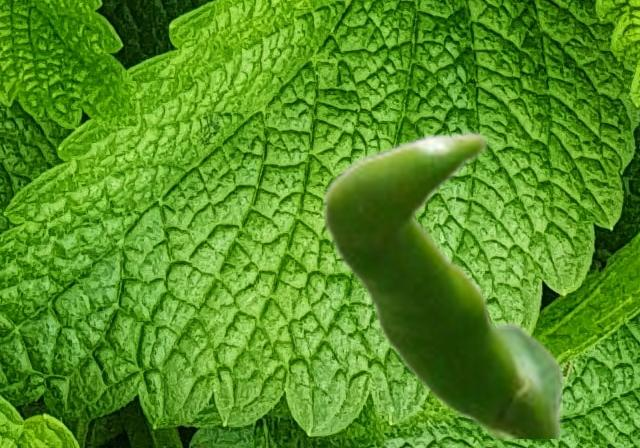green_chili: (321, 130, 561, 437)
